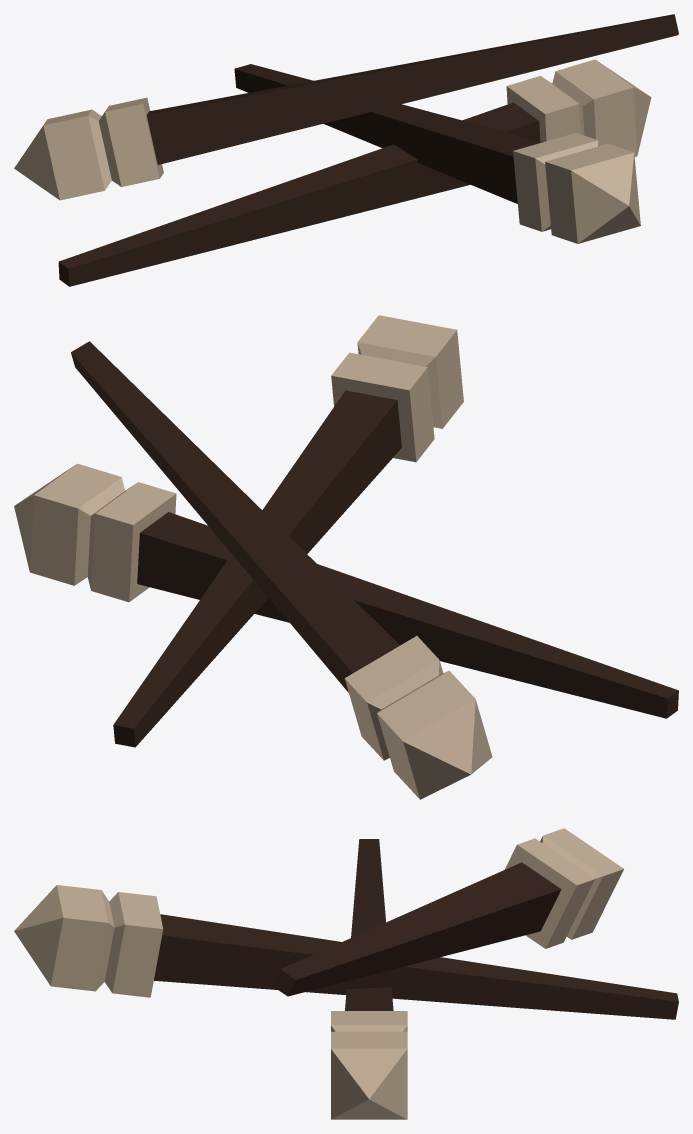
File: Antorcha.fbx
3 views of the same model, one above another, from view 1: azimuth 30°, elevation 25°; view 2: azimuth 150°, elevation 25°; view 3: azimuth 270°, elevation 25° (orthographic). The views are drawn at different scales.
Parts seen in each view (by area): view 1: Antorcha; view 2: Antorcha; view 3: Antorcha.
Part boxes in pixels (bbox=[...]): Antorcha: bbox=[14, 14, 678, 286]; Antorcha: bbox=[14, 315, 678, 799]; Antorcha: bbox=[14, 828, 678, 1119].
Size of the model in its own units: 1.04 by 0.3108 by 1.03.
